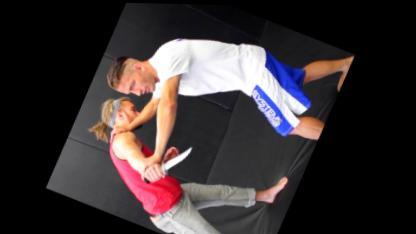knife: (141, 129, 199, 196)
